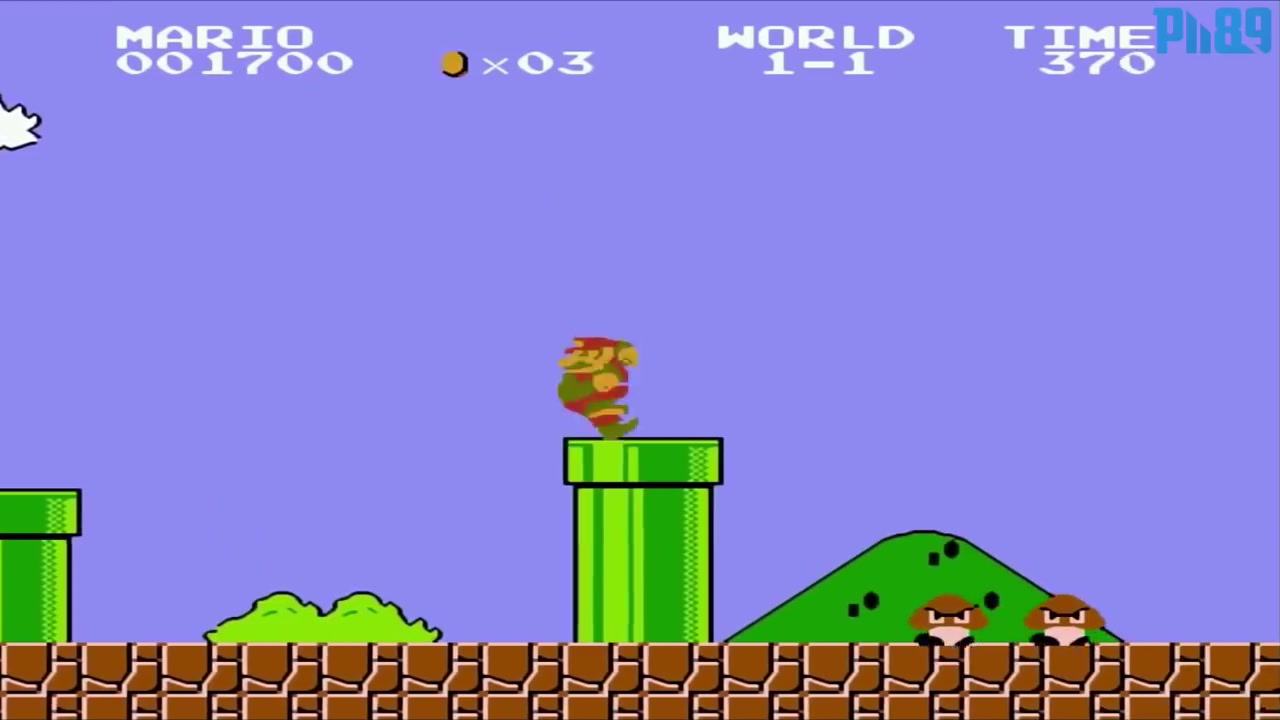mario: (540, 324, 649, 439)
